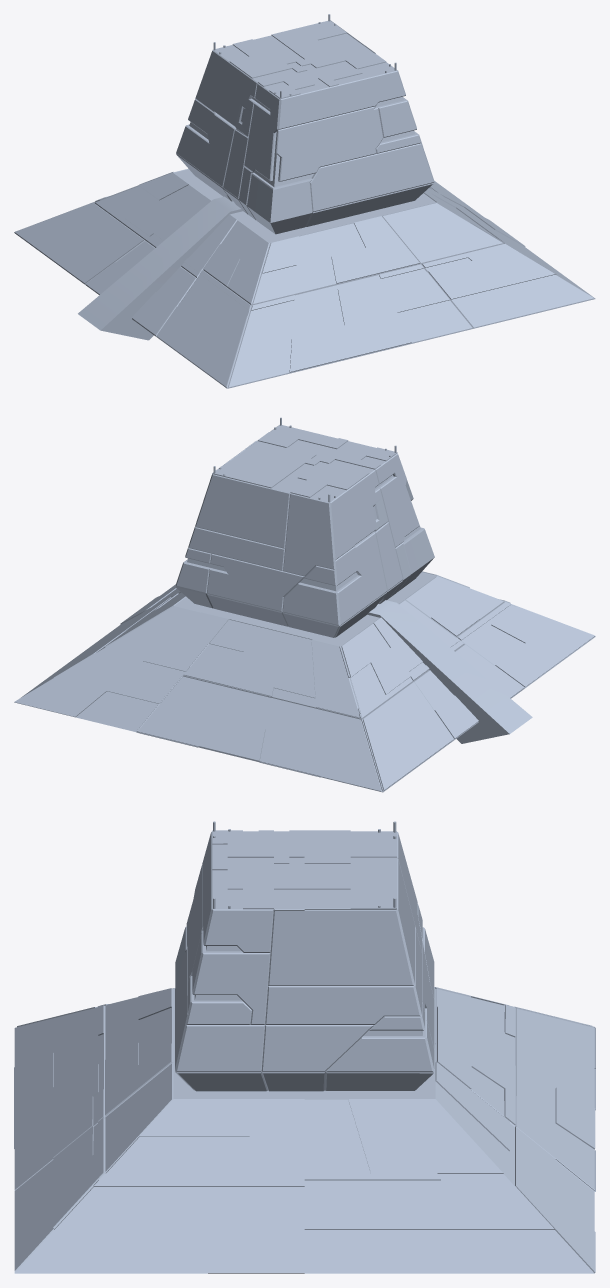
File: Building 7.fbx
3 views of the same model, one above another, from view 1: azimuth 30°, elevation 25°; view 2: azimuth 150°, elevation 25°; view 3: azimuth 270°, elevation 25° (orthographic). The views are drawn at different scales.
Visible parts, largest first — view 1: Building 7; view 2: Building 7; view 3: Building 7.
Boxes of the visible parts, x1,y1,x2,y2 form: Building 7: [14, 14, 595, 388]; Building 7: [14, 417, 595, 792]; Building 7: [14, 821, 595, 1273].
Bounding box in the file's own units: 10365 × 6386 × 11241.
